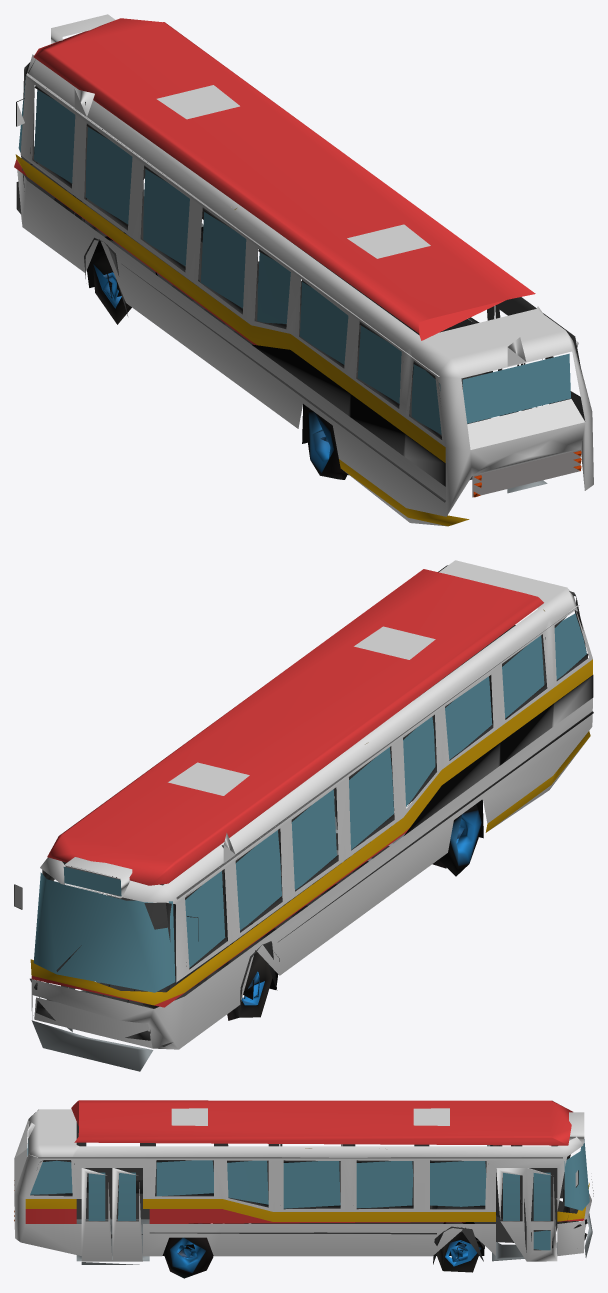
The model's file is bus-far.glb.
3 views of the same model, one above another, from view 1: azimuth 30°, elevation 25°; view 2: azimuth 150°, elevation 25°; view 3: azimuth 270°, elevation 25° (orthographic). The views are drawn at different scales.
Visible parts, largest first — view 1: det; view 2: det; view 3: det.
Boxes of the visible parts, <box> form: det: <box>14,14,593,526</box>; det: <box>14,560,593,1071</box>; det: <box>14,1100,593,1278</box>.
Bounding box in the file's own units: 2.6 × 3.18 × 11.91.
